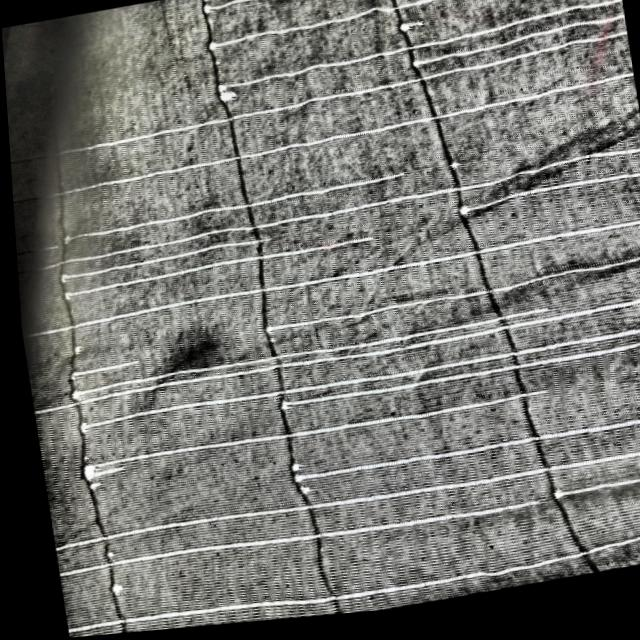Hole: (141, 324, 232, 383), (384, 23, 433, 44), (437, 144, 460, 183), (280, 485, 312, 504), (75, 479, 103, 499), (275, 460, 299, 480), (213, 92, 235, 111), (98, 579, 116, 601), (62, 339, 80, 358), (95, 549, 109, 559)
Stitch: (4, 36, 632, 172), (16, 73, 638, 210), (10, 148, 640, 279), (63, 326, 640, 438), (65, 384, 550, 483), (54, 310, 546, 402), (204, 0, 625, 96), (241, 255, 640, 350), (259, 339, 640, 421), (281, 405, 640, 491), (47, 170, 411, 250), (51, 231, 381, 308), (194, 0, 620, 58), (396, 15, 627, 83), (43, 234, 269, 292), (436, 172, 640, 233), (195, 0, 614, 16), (532, 474, 640, 518), (54, 353, 143, 389)
